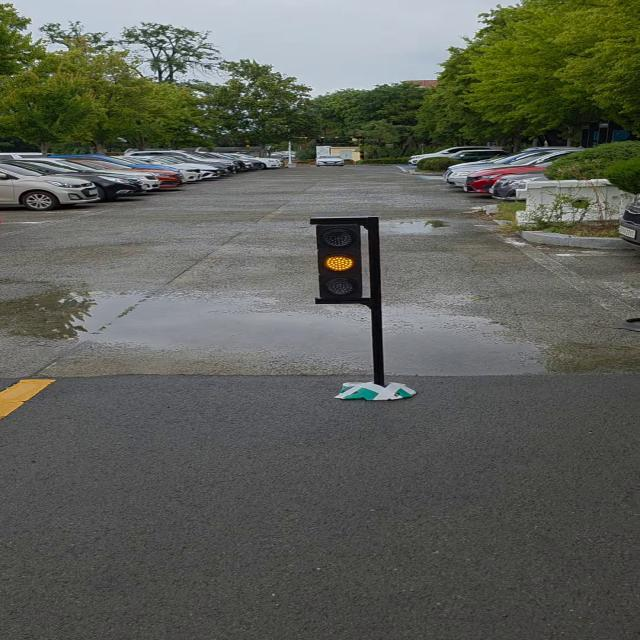yellow: (312, 223, 364, 306)
